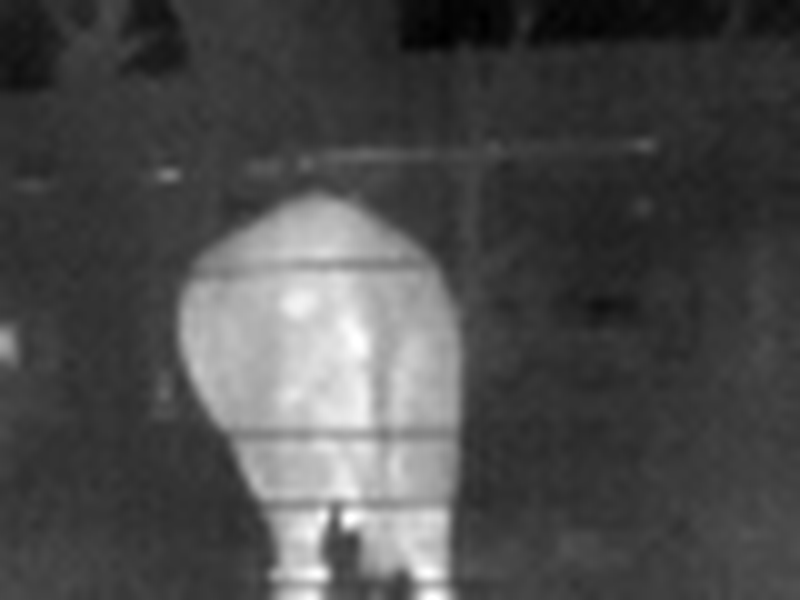elephant: (150, 189, 457, 588)
